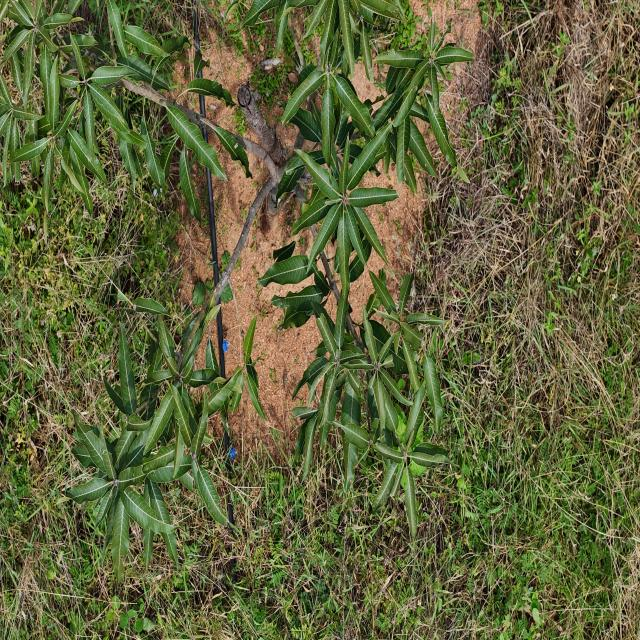mangoTree: (0, 0, 476, 584)
